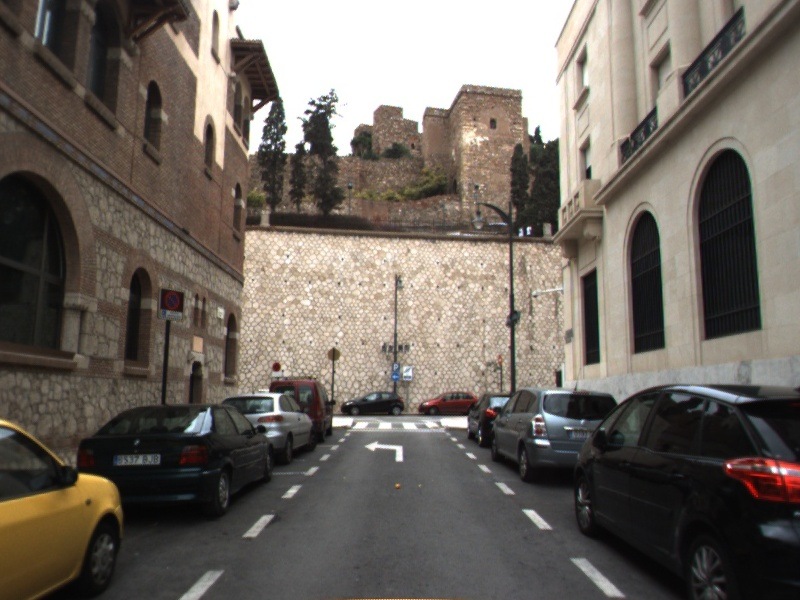LEFT: (363, 439, 405, 464)
